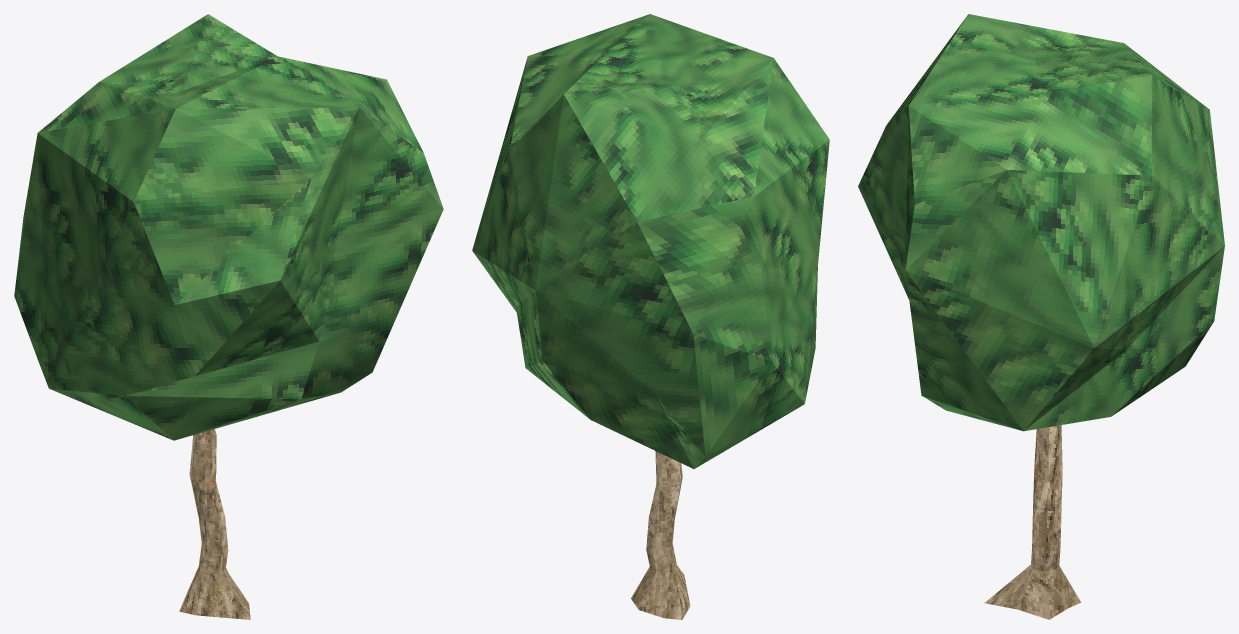
Rendered from tree_lightgreen.glb.
The picture shows the model from 3 angles, left to right: view 1: azimuth 30°, elevation 25°; view 2: azimuth 150°, elevation 25°; view 3: azimuth 270°, elevation 25°; orthographic projection. The views are drawn at different scales.
Parts seen in each view (by area): view 1: Cube.001; view 2: Cube.001; view 3: Cube.001.
Boxes of the visible parts, box(x1,y1,x2,y2) form: Cube.001: box(14, 14, 443, 619); Cube.001: box(472, 14, 829, 619); Cube.001: box(858, 14, 1224, 619).
Bounding box in the file's own units: 26.69 × 43.19 × 25.73.
2 materials, 2 textured.
